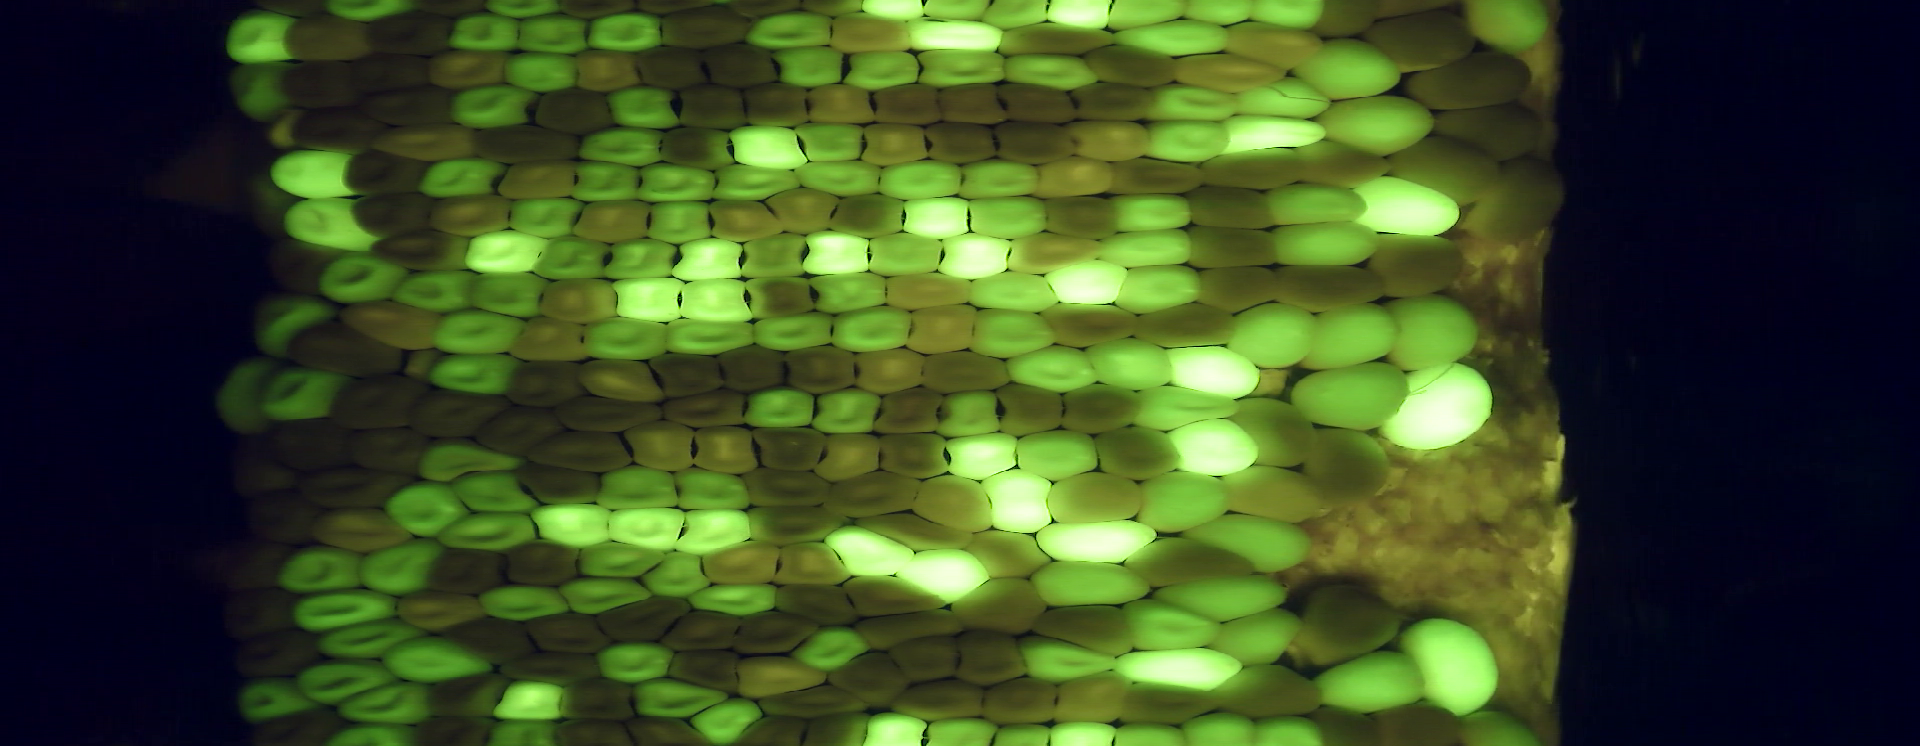fluorescent: (1373, 354, 1505, 461), (1393, 609, 1509, 720), (1283, 354, 1416, 436), (1180, 511, 1322, 581), (1296, 646, 1431, 717), (1376, 290, 1485, 375), (1348, 169, 1469, 245), (1293, 301, 1409, 375), (1291, 32, 1404, 107), (1216, 296, 1325, 372), (1318, 91, 1444, 156), (1029, 554, 1164, 614), (1127, 469, 1243, 539), (1145, 570, 1296, 624), (1199, 603, 1318, 669), (1030, 514, 1166, 572), (1116, 590, 1232, 657), (252, 359, 362, 428), (207, 352, 290, 440), (242, 289, 340, 363), (1153, 413, 1265, 477), (375, 632, 504, 686), (1128, 382, 1251, 439), (1013, 626, 1124, 688), (1262, 219, 1387, 273), (820, 521, 926, 584), (413, 432, 534, 488), (1160, 339, 1269, 401), (291, 654, 411, 709), (312, 249, 420, 310), (1076, 328, 1176, 394), (891, 544, 994, 608), (276, 194, 384, 254), (975, 465, 1060, 539), (351, 534, 444, 601), (1107, 258, 1209, 320), (264, 145, 364, 207), (425, 305, 534, 361), (269, 541, 375, 599), (1260, 176, 1375, 229), (287, 584, 407, 635), (1229, 73, 1340, 127), (384, 479, 474, 545), (429, 505, 546, 555), (591, 457, 686, 519), (315, 612, 433, 661), (1111, 13, 1236, 60), (964, 303, 1067, 359), (222, 671, 322, 729), (1005, 339, 1104, 396), (425, 345, 525, 401), (627, 674, 737, 724), (1013, 423, 1104, 483), (1460, 1, 1551, 61), (333, 676, 442, 726), (1033, 256, 1136, 307), (961, 269, 1069, 318), (1220, 110, 1336, 156), (825, 299, 920, 354), (223, 56, 301, 122), (220, 7, 305, 69), (1133, 78, 1240, 126), (525, 499, 615, 556), (383, 262, 482, 314), (557, 570, 656, 621), (449, 465, 544, 519), (672, 272, 760, 330), (939, 425, 1026, 483), (1134, 116, 1236, 165), (580, 315, 684, 363), (684, 691, 774, 746), (465, 268, 556, 322), (444, 80, 541, 130), (460, 227, 553, 278), (931, 229, 1021, 282), (591, 636, 680, 690), (665, 506, 759, 556), (673, 461, 759, 516), (726, 120, 816, 173), (791, 621, 878, 675), (602, 503, 696, 554), (606, 271, 691, 326), (808, 381, 889, 439), (658, 312, 763, 356), (664, 229, 746, 285), (576, 537, 672, 584), (478, 581, 574, 628), (862, 229, 951, 281), (807, 263, 896, 315), (932, 383, 1015, 439), (498, 47, 585, 99), (1092, 225, 1195, 269), (530, 229, 618, 281), (790, 116, 876, 169), (680, 577, 785, 620), (600, 234, 689, 284), (414, 156, 509, 202), (965, 192, 1056, 241), (601, 81, 684, 134), (999, 50, 1103, 92), (580, 122, 671, 170), (733, 229, 816, 282), (911, 47, 1011, 89), (638, 196, 718, 250), (742, 9, 845, 50), (636, 546, 716, 599), (1450, 704, 1551, 746), (1104, 189, 1198, 234), (954, 156, 1048, 200), (738, 383, 823, 432), (904, 18, 1009, 58), (898, 192, 982, 240), (744, 309, 838, 352), (583, 9, 666, 56), (790, 158, 888, 198), (568, 158, 647, 208), (874, 159, 971, 200), (634, 159, 720, 205), (844, 45, 924, 93), (710, 159, 806, 200), (509, 194, 594, 239), (771, 42, 851, 89), (1098, 1, 1198, 39), (444, 11, 527, 56), (513, 11, 594, 56), (307, 715, 425, 746), (493, 676, 571, 722), (1179, 706, 1264, 746), (918, 710, 1007, 746), (860, 706, 932, 746), (478, 713, 564, 746), (1164, 1, 1271, 28), (1239, 1, 1333, 31), (1038, 1, 1125, 33), (1242, 714, 1327, 746), (316, 1, 420, 26), (976, 1, 1053, 32), (1044, 717, 1122, 746), (1107, 719, 1189, 746), (986, 718, 1063, 746), (478, 1, 563, 22), (856, 1, 931, 24), (917, 1, 992, 21)
nonfluorescent: (1281, 575, 1408, 676), (1460, 153, 1570, 246), (1384, 132, 1506, 208), (1358, 7, 1485, 77), (1404, 48, 1539, 113), (1205, 658, 1335, 724), (1299, 421, 1396, 510), (284, 318, 411, 383), (1427, 99, 1547, 168), (1125, 534, 1261, 593), (1364, 229, 1469, 303), (1270, 258, 1389, 322), (1229, 394, 1324, 472), (1216, 462, 1324, 526), (1040, 468, 1150, 529), (947, 573, 1051, 637), (324, 370, 435, 430), (405, 385, 517, 443), (1164, 48, 1292, 99), (300, 503, 418, 559), (1029, 599, 1136, 659), (334, 294, 444, 352), (257, 412, 361, 472), (1129, 299, 1242, 354), (852, 508, 981, 556), (260, 232, 343, 304), (238, 699, 366, 746), (235, 624, 327, 688), (825, 649, 916, 714), (1220, 18, 1326, 73), (295, 464, 418, 512), (849, 606, 971, 654), (1289, 137, 1395, 192), (819, 468, 926, 522), (727, 649, 831, 704), (220, 429, 302, 499), (907, 472, 997, 535), (1035, 301, 1145, 353), (520, 428, 638, 475), (842, 571, 951, 622), (1196, 143, 1308, 194), (239, 483, 324, 548), (551, 390, 667, 437), (1092, 423, 1184, 483), (949, 624, 1033, 688), (414, 668, 516, 722), (1056, 379, 1145, 440), (1044, 668, 1130, 731), (1365, 698, 1479, 746), (594, 590, 684, 650), (365, 119, 480, 165), (364, 223, 468, 274), (1190, 260, 1281, 318), (280, 10, 375, 66), (696, 534, 784, 594), (962, 528, 1056, 584), (1180, 222, 1282, 273), (1185, 183, 1284, 235), (471, 405, 568, 459), (1116, 680, 1224, 728), (424, 540, 508, 601), (287, 104, 387, 156), (467, 121, 580, 167), (569, 355, 667, 408), (531, 274, 624, 330), (219, 529, 295, 597), (338, 145, 432, 198), (441, 612, 535, 666), (780, 341, 868, 398), (620, 416, 704, 477), (996, 20, 1123, 59), (915, 345, 1014, 396), (356, 85, 458, 134), (500, 356, 588, 413), (277, 54, 362, 111), (640, 349, 730, 404), (345, 423, 435, 478), (653, 2, 753, 51), (744, 499, 845, 548), (520, 608, 618, 658), (976, 673, 1063, 729), (1082, 40, 1182, 89), (1005, 230, 1107, 278), (509, 458, 607, 507), (211, 582, 298, 637), (889, 677, 992, 724), (752, 680, 873, 719), (729, 608, 820, 659), (504, 311, 588, 367), (365, 7, 456, 59), (711, 341, 792, 398), (992, 379, 1069, 439), (885, 628, 962, 688), (393, 587, 490, 635), (529, 85, 615, 138), (767, 579, 861, 628), (662, 646, 748, 699), (759, 183, 842, 238), (872, 428, 953, 484), (551, 673, 642, 723), (1109, 152, 1206, 198), (658, 608, 747, 658), (747, 423, 830, 477), (675, 78, 756, 134), (500, 534, 580, 589), (1065, 118, 1158, 165), (656, 385, 749, 432), (740, 462, 833, 510), (1036, 192, 1124, 243), (989, 78, 1081, 126), (427, 190, 517, 239), (350, 190, 432, 243), (902, 301, 981, 356), (498, 648, 605, 688), (571, 198, 658, 247), (422, 44, 516, 89), (827, 10, 915, 58), (879, 269, 977, 312), (684, 423, 760, 478), (1064, 78, 1156, 124), (996, 119, 1080, 168), (871, 383, 945, 439), (1029, 153, 1119, 198), (704, 196, 790, 244), (849, 345, 928, 397), (771, 539, 855, 588), (744, 269, 818, 325), (809, 430, 885, 483), (632, 42, 711, 92), (655, 125, 735, 175), (922, 118, 1000, 168), (495, 158, 579, 203), (569, 45, 645, 96), (705, 39, 781, 89), (741, 78, 813, 131), (351, 49, 431, 97), (936, 78, 1007, 131), (621, 710, 726, 746), (857, 119, 931, 169), (804, 78, 879, 127), (869, 81, 945, 129), (546, 714, 648, 746), (405, 712, 500, 746), (1310, 704, 1387, 746), (1307, 1, 1381, 42), (724, 710, 808, 746), (797, 709, 874, 746)
